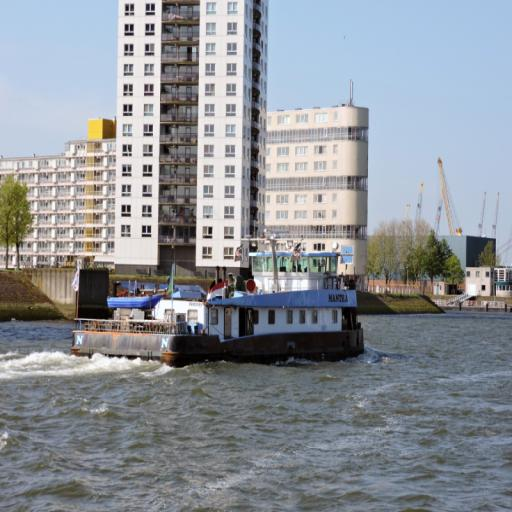tugboat: (70, 230, 371, 380)
